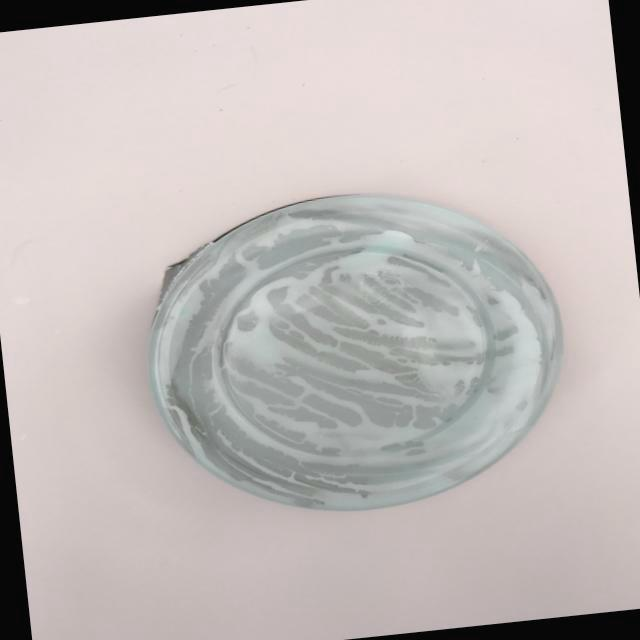plastic: (114, 154, 606, 548)
